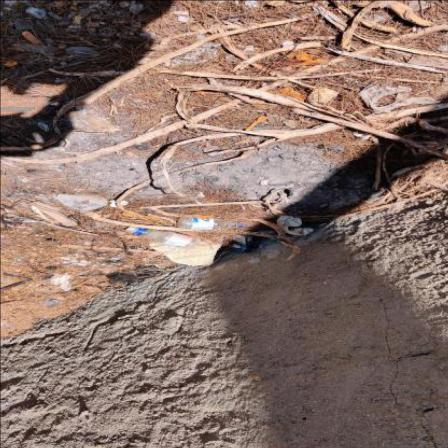Aluminium foil: (196, 193, 206, 198)
Bottle: (125, 227, 201, 250), (179, 218, 251, 232)
Bottle cap: (124, 228, 139, 234)
Carton: (231, 236, 255, 254)
Other litter: (254, 127, 290, 131), (73, 52, 103, 56)
Styrofoam piece: (150, 241, 222, 266)
Unlabeled litter: (358, 86, 442, 116), (279, 217, 315, 237), (110, 201, 130, 209)
